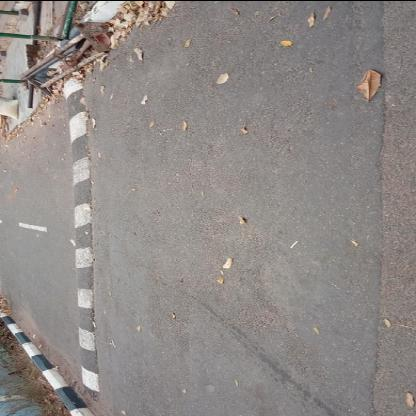speed-bumps: (51, 71, 115, 401)
